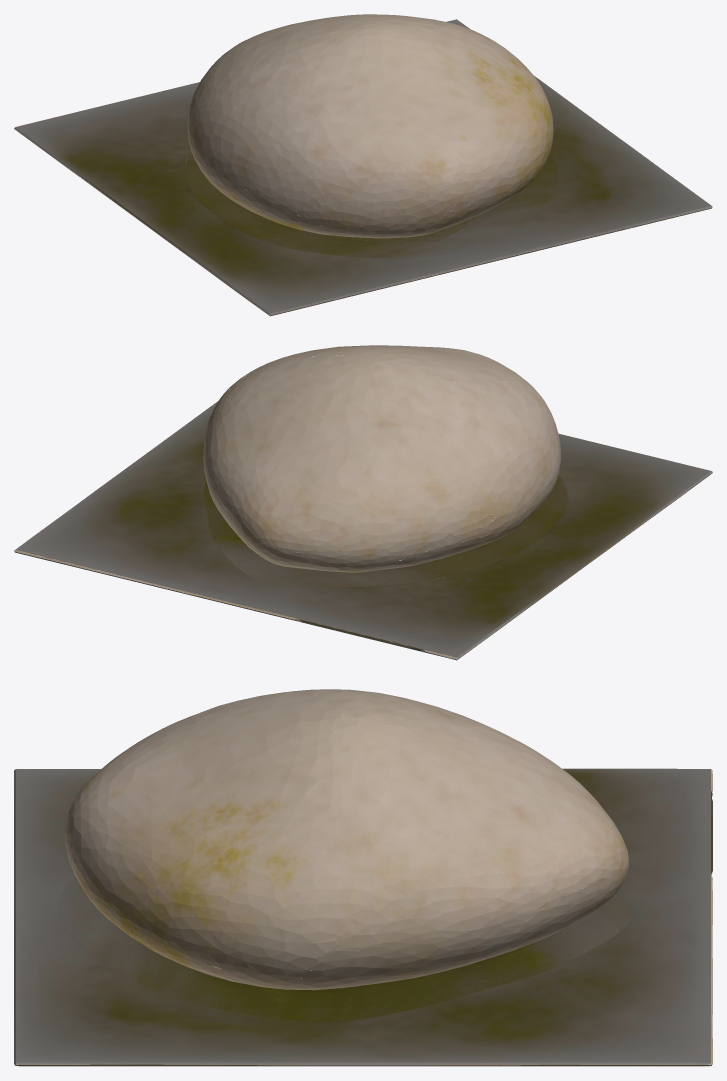
File: pebble.glb
3 views of the same model, one above another, from view 1: azimuth 30°, elevation 25°; view 2: azimuth 150°, elevation 25°; view 3: azimuth 270°, elevation 25° (orthographic). The views are drawn at different scales.
Visible parts, largest first — view 1: textured.obj; view 2: textured.obj; view 3: textured.obj.
Boxes of the visible parts, x1,y1,x2,y2 form: textured.obj: (14, 14, 712, 316); textured.obj: (14, 345, 712, 660); textured.obj: (14, 689, 712, 1066).
Size of the model in its own units: 0.03 by 0.00949 by 0.03.
1 material, 1 textured.
